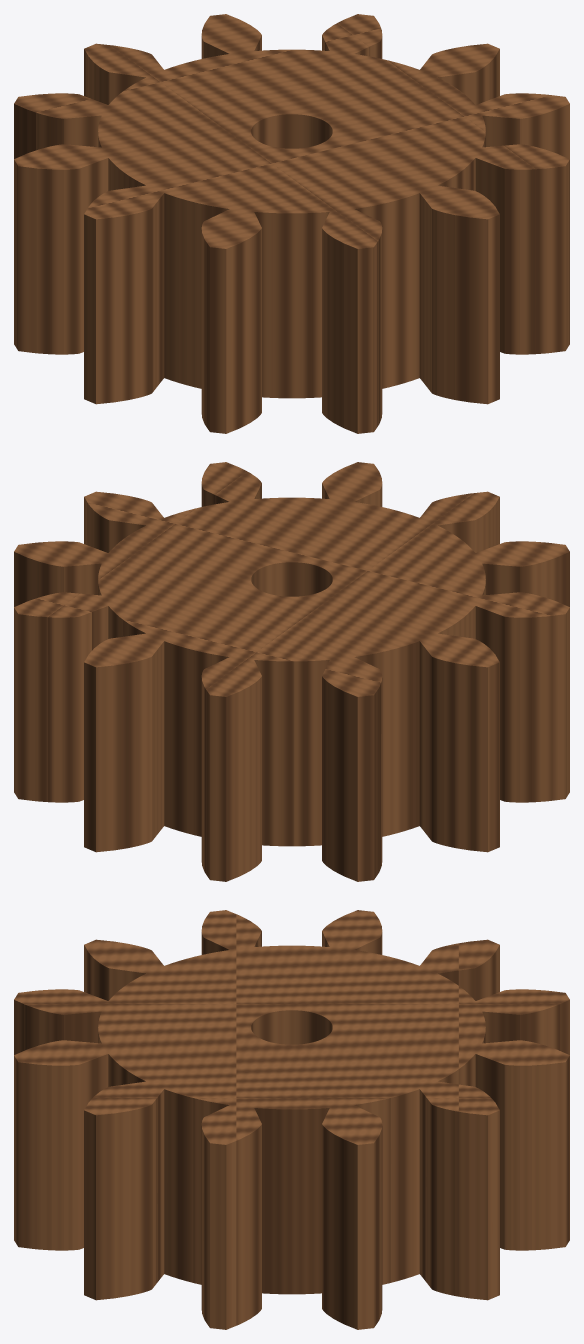
File: planet_3.glb
3 views of the same model, one above another, from view 1: azimuth 30°, elevation 25°; view 2: azimuth 150°, elevation 25°; view 3: azimuth 270°, elevation 25° (orthographic).
Bounding box in the file's own units: 2.72e-05 × 1e-05 × 2.72e-05.
Materials: 1 (1 with a texture image).
